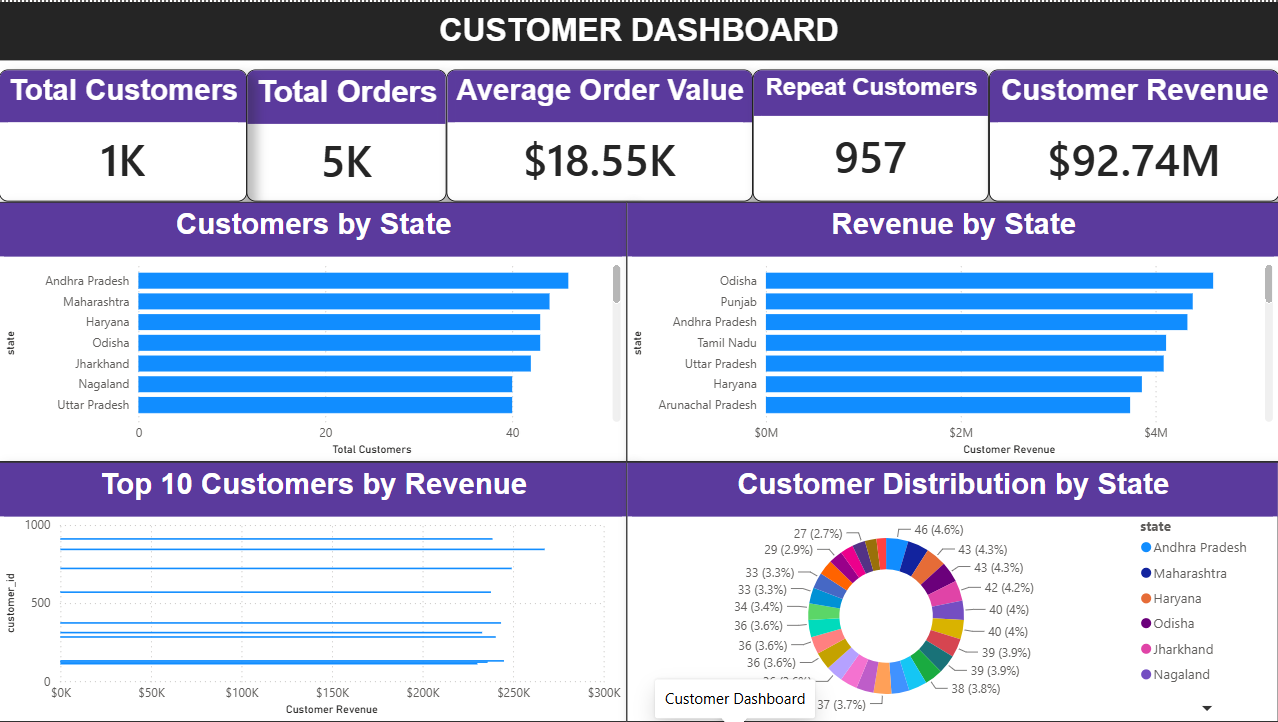

The dashboard page shown, as its layout file describes it:
{"tool":"powerbi","page":{"name":"Customer Dashboard","canvas":[1280,720],"ordinal":3},"visuals":[{"type":"textbox","title":"CUSTOMER DASHBOARD","box":[0,0,1280,58.6],"z":0},{"type":"cardVisual","title":"Total Orders","fields":{"Data":["Measures (2).Total Orders"]},"box":[248,68,200,132],"z":1000},{"type":"cardVisual","title":"Total Customers","fields":{"Data":["Measures (2).Total Customers"]},"box":[0,68,248,132],"z":2000},{"type":"cardVisual","title":"Average Order Value","fields":{"Data":["Measures (2).Average Order Value"]},"box":[448,68,306,132],"z":3000},{"type":"cardVisual","title":"Repeat Customers","fields":{"Data":["Measures (2).Repeat Customers"]},"box":[754,68,236,132],"z":4000},{"type":"cardVisual","title":"Customer Revenue","fields":{"Data":["Measures (2).Customer Revenue"]},"box":[990,68,290,132],"z":5000},{"type":"barChart","title":"Customers by State","fields":{"Category":["public customers.state"],"Y":["Measures (2).Total Customers"]},"box":[0,200,628,260],"z":6000},{"type":"barChart","title":"Revenue by State","fields":{"Category":["public customers.state"],"Y":["Measures (2).Customer Revenue"]},"box":[627.1,200,652.9,260],"z":7000},{"type":"barChart","title":"Top 10 Customers by Revenue","fields":{"Category":["public customers.customer_id"],"Y":["Measures (2).Customer Revenue"]},"box":[0,460,628,260],"z":8000},{"type":"donutChart","title":"Customer Distribution by State","fields":{"Category":["public customers.state"],"Y":["Measures (2).Total Customers"]},"box":[628,460,652,260],"z":9000}]}

Visuals, with their boxes on the page's 1280x720 design canvas (x1, y1, x2, y2). These are canvas units, not pixel positions in the 1278x722 screenshot, which may show the page scaled, cropped or inside an application window:
"CUSTOMER DASHBOARD" textbox: (left=0, top=0, right=1280, bottom=59)
"Total Orders" cardVisual: (left=248, top=68, right=448, bottom=200)
"Total Customers" cardVisual: (left=0, top=68, right=248, bottom=200)
"Average Order Value" cardVisual: (left=448, top=68, right=754, bottom=200)
"Repeat Customers" cardVisual: (left=754, top=68, right=990, bottom=200)
"Customer Revenue" cardVisual: (left=990, top=68, right=1280, bottom=200)
"Customers by State" barChart: (left=0, top=200, right=628, bottom=460)
"Revenue by State" barChart: (left=627, top=200, right=1280, bottom=460)
"Top 10 Customers by Revenue" barChart: (left=0, top=460, right=628, bottom=720)
"Customer Distribution by State" donutChart: (left=628, top=460, right=1280, bottom=720)
